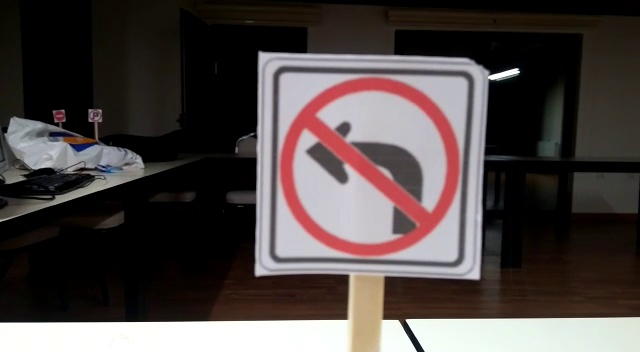sola_donulmez: (263, 71, 482, 266)
